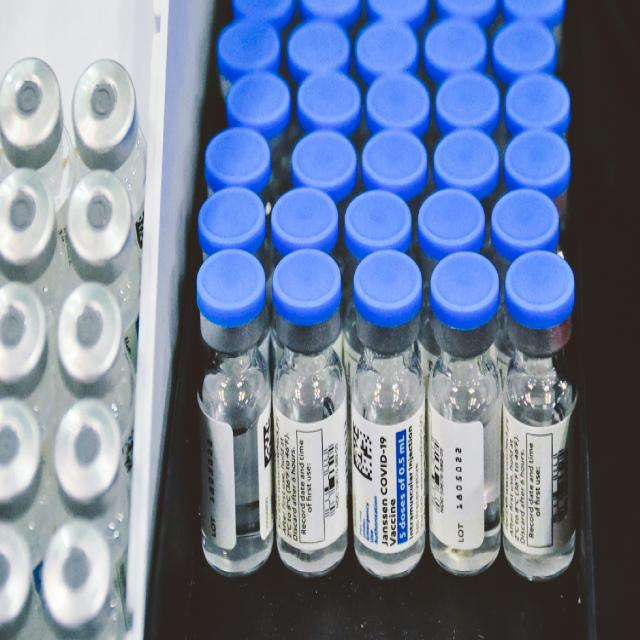vial: (43, 512, 112, 617), (61, 396, 126, 498), (69, 171, 134, 270), (56, 278, 120, 378), (75, 61, 139, 158), (1, 61, 64, 158), (0, 273, 51, 382), (506, 250, 577, 326), (194, 249, 264, 325), (355, 252, 424, 325), (0, 171, 54, 263), (272, 254, 344, 323), (432, 254, 497, 330), (0, 389, 41, 498), (274, 187, 346, 249), (197, 192, 274, 249), (493, 187, 558, 254), (365, 71, 433, 135), (428, 130, 505, 185), (505, 69, 572, 130), (507, 132, 572, 194), (420, 188, 484, 249), (437, 72, 499, 134), (298, 70, 362, 130), (344, 193, 412, 249), (363, 133, 427, 192), (205, 128, 268, 187), (0, 513, 32, 626), (290, 131, 355, 185), (227, 74, 289, 128), (429, 19, 490, 73), (291, 22, 349, 78), (358, 24, 420, 73), (219, 21, 279, 71), (497, 22, 552, 71), (234, 0, 300, 21), (366, 0, 431, 21), (506, 0, 567, 19), (439, 0, 502, 17), (306, 0, 360, 19)
